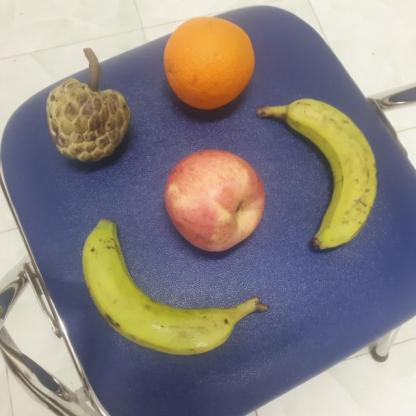annona: (42, 76, 140, 166)
apple: (158, 146, 279, 260)
banana: (81, 217, 270, 354), (250, 96, 388, 260)
orange: (161, 14, 261, 108)
